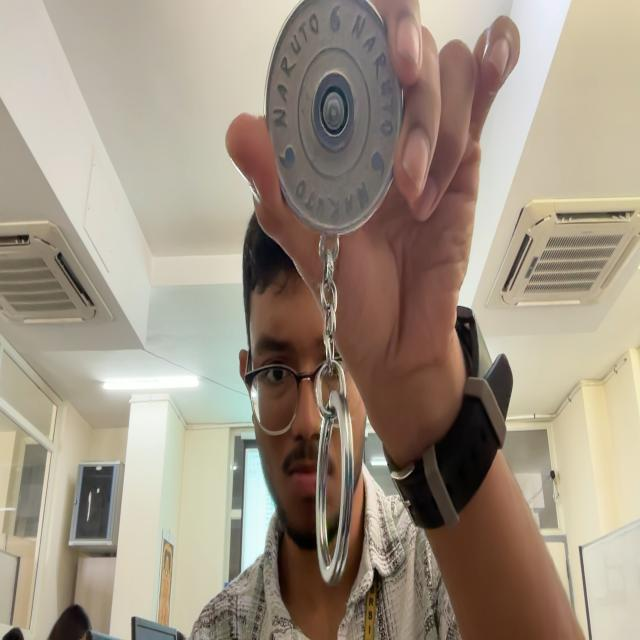dangerous: (265, 0, 403, 585)
